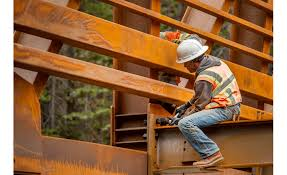hard hat: (176, 39, 208, 63)
high-vis: (195, 59, 241, 109)
